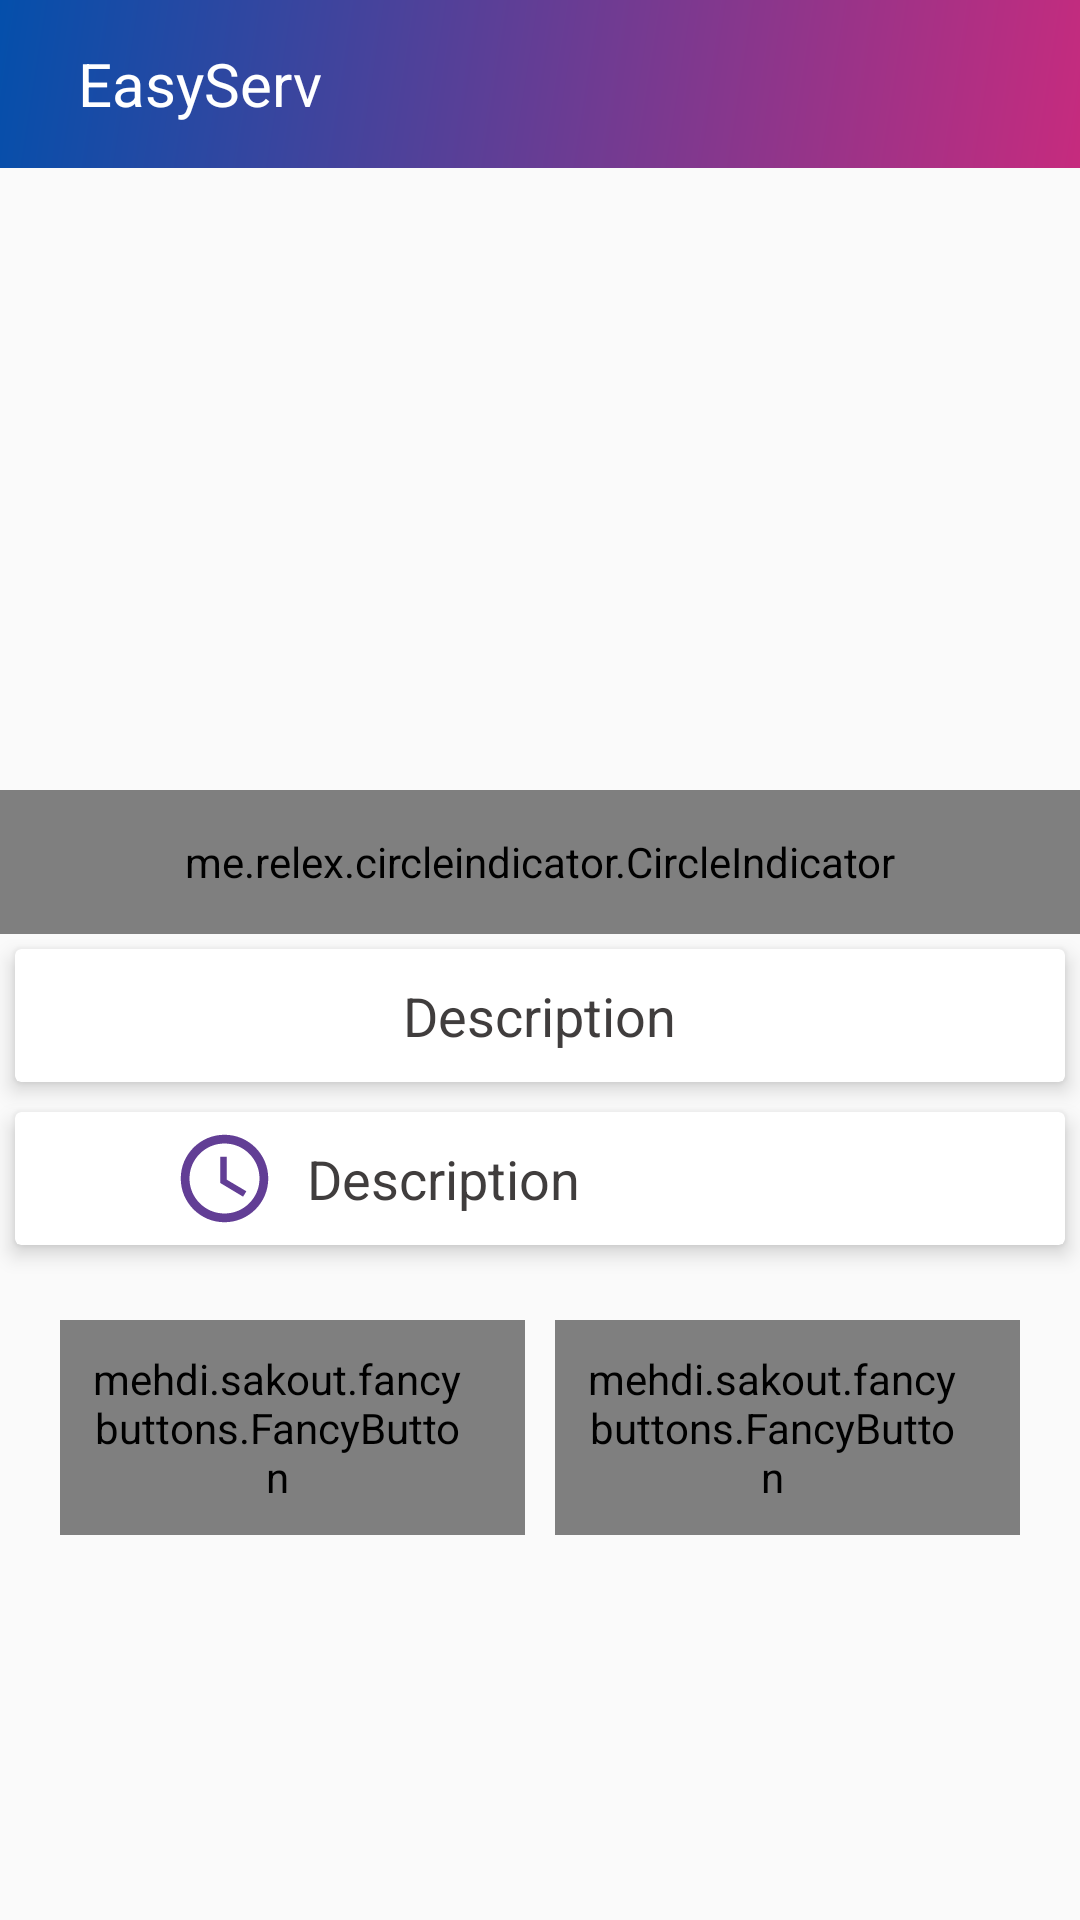

Icons on this 1080 × 1920 Android screen, each with the point to tap as (x,y):
access time: (224,1178)
